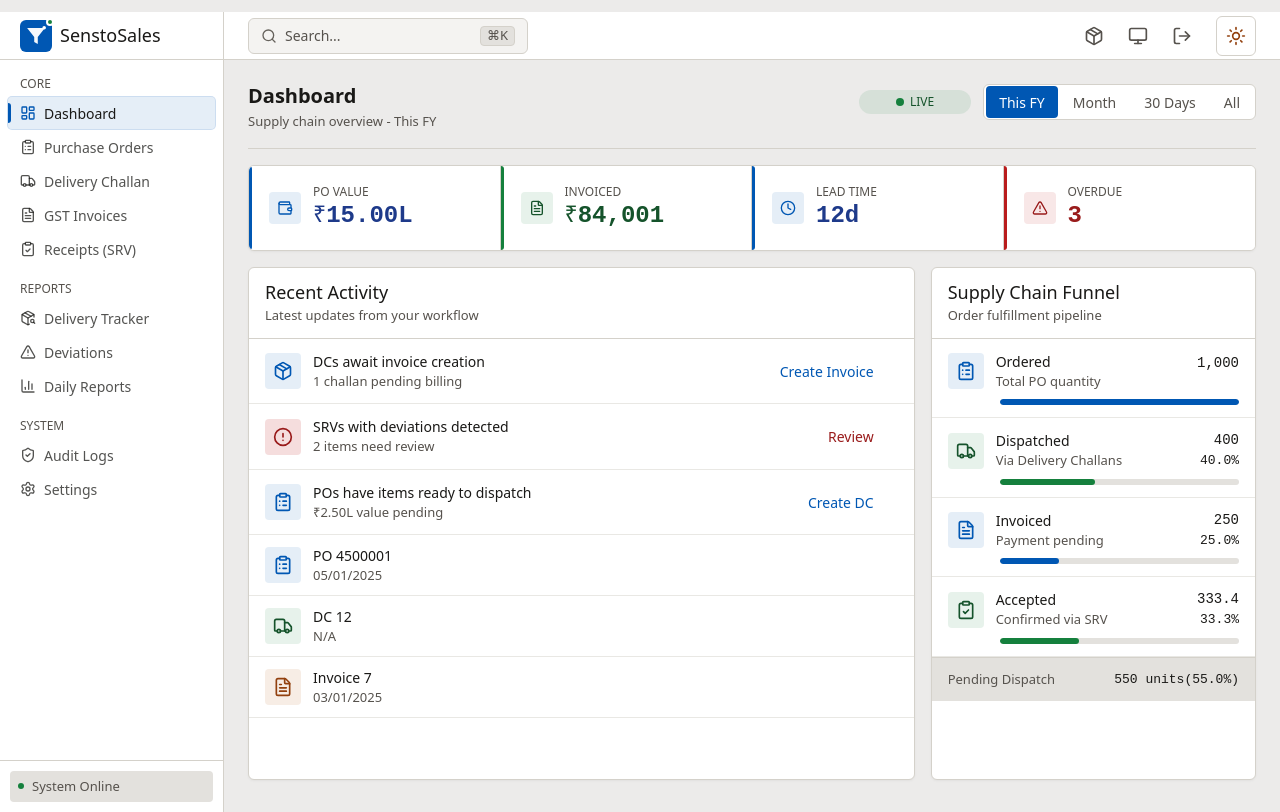
Test: dashboard (SPEC-15 PR 4) › switching the period asks for that period and keeps the cards on screen meanwhile
The width and height of the screenshot is (1280, 812).
Click the button "All".
click(1232, 102)  # box [1211,86,1253,118]
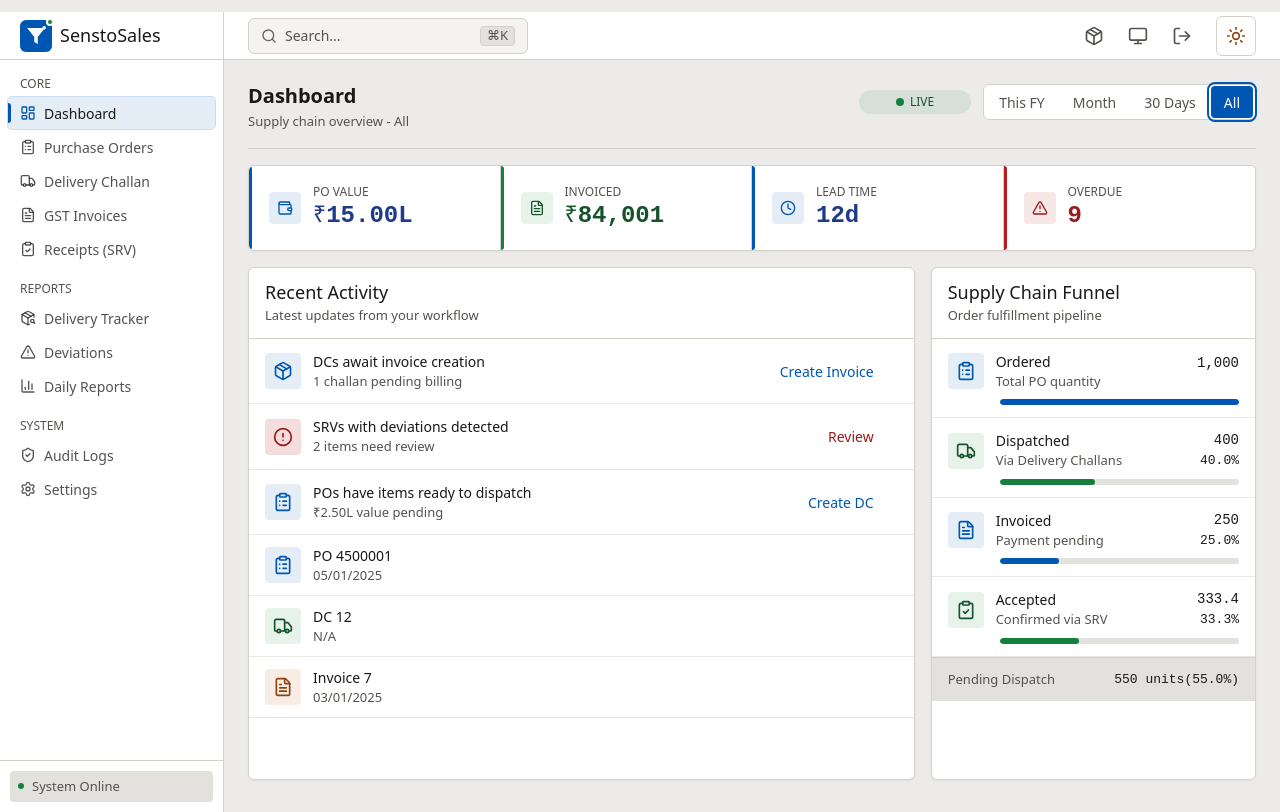
Check: the text "Supply chain overview - All" is shown, box [248,112,409,132]
